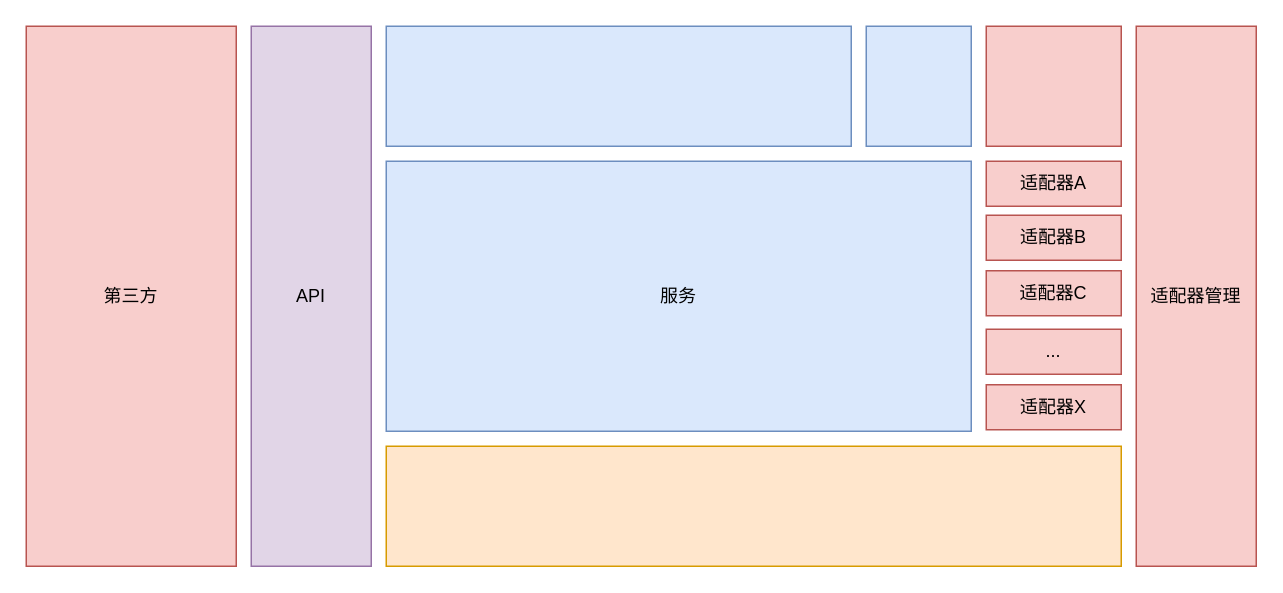
The diagram is 1283 pixels wide and 593 high, and some of its shapes have lost their labels. Each missing label, with the centre of its shape:
"App" belongs at (918,85).
"PC页面" belongs at (618,85).
"持久化" belongs at (753,505).
"适配页面" belongs at (1053,85).
